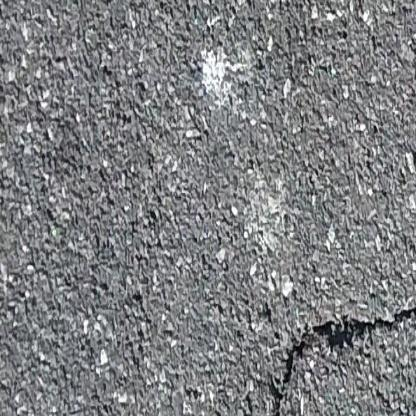Cracks: (256, 250, 416, 416)
